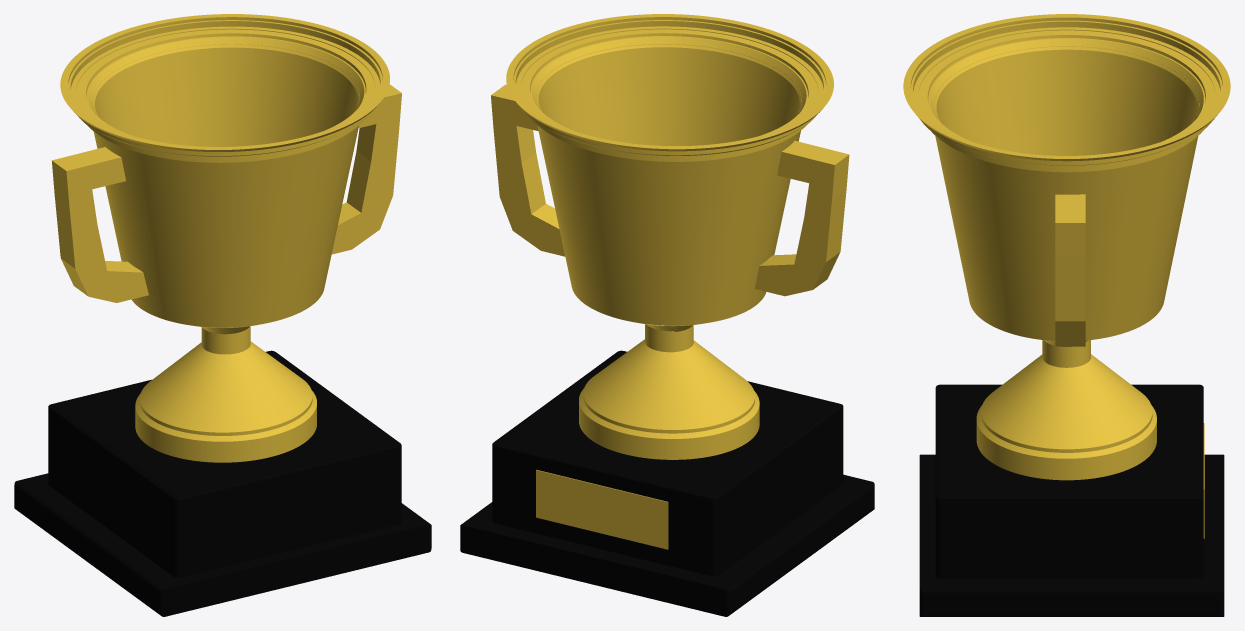
File: кубок 2.0.glb
3 renders of one model, left to right at view 1: azimuth 30°, elevation 25°; view 2: azimuth 150°, elevation 25°; view 3: azimuth 270°, elevation 25°, orthographic. The views are drawn at different scales.
Parts seen in each view (by area): view 1: Cylinder, Cube.001, Cube, Cube.003, Cube.004; view 2: Cylinder, Cube.001, Cube, Cube.003, Cube.004, Cube.002; view 3: Cylinder, Cube.001, Cube, Cube.004.
Boxes of the visible parts, left/top/right/bottom form: Cylinder: left=60, top=14, right=389, bottom=462; Cube.001: left=48, top=350, right=401, bottom=577; Cube: left=14, top=473, right=431, bottom=616; Cube.003: left=52, top=147, right=148, bottom=302; Cube.004: left=331, top=84, right=401, bottom=254; Cylinder: left=506, top=14, right=833, bottom=459; Cube.001: left=492, top=350, right=843, bottom=576; Cube: left=460, top=474, right=874, bottom=616; Cube.003: left=755, top=141, right=849, bottom=296; Cube.004: left=491, top=84, right=565, bottom=256; Cube.002: left=536, top=469, right=668, bottom=549; Cylinder: left=903, top=14, right=1230, bottom=480; Cube.001: left=935, top=384, right=1203, bottom=578; Cube: left=919, top=454, right=1224, bottom=616; Cube.004: left=1055, top=194, right=1085, bottom=346.
Bounding box in the file's own units: 2.5 × 3.16 × 2.02.
